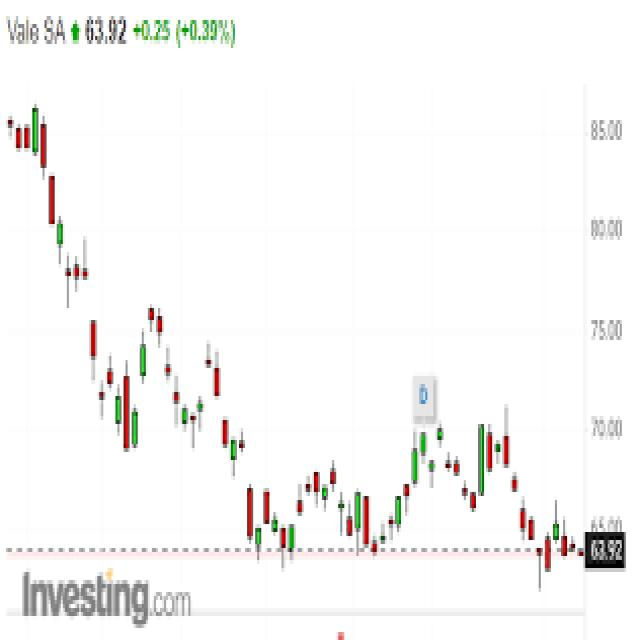topo_duplo: (368, 412, 538, 552)
